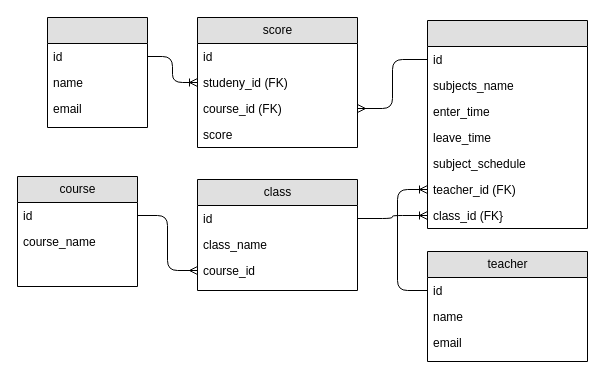
This 605x379 diagram has some shape labels left out. Here are the shapes that lost their labels. From the top down, the box of each, then its label:
(46, 16, 148, 128): student
(426, 20, 588, 228): lesson
